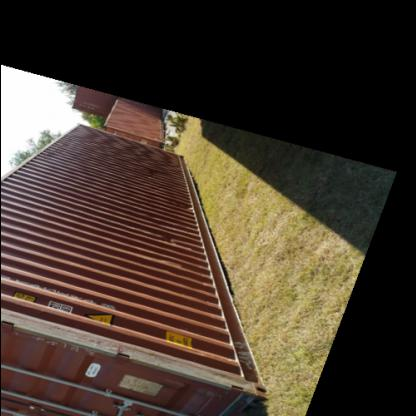Damage: (28, 332, 104, 364), (230, 340, 252, 374), (137, 164, 165, 184), (169, 198, 197, 214), (152, 232, 176, 249)
